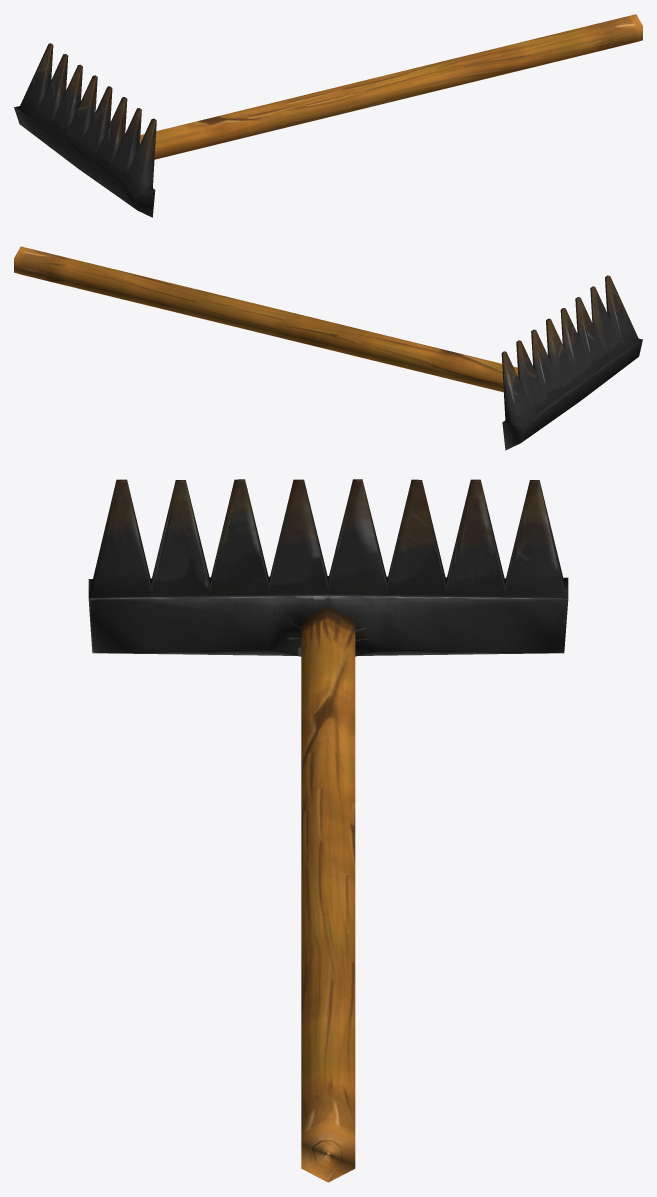
File: rastelo.fbx
The picture shows the model from 3 angles, top to bottom: view 1: azimuth 30°, elevation 25°; view 2: azimuth 150°, elevation 25°; view 3: azimuth 270°, elevation 25°; orthographic projection. The views are drawn at different scales.
Visible parts, largest first — view 1: CA_OPE_Props_Fazenda; view 2: CA_OPE_Props_Fazenda; view 3: CA_OPE_Props_Fazenda.
Boxes of the visible parts, left/top/right/bottom form: CA_OPE_Props_Fazenda: left=14, top=14, right=642, bottom=217; CA_OPE_Props_Fazenda: left=14, top=246, right=642, bottom=450; CA_OPE_Props_Fazenda: left=88, top=479, right=568, bottom=1182.
Size of the model in its own units: 2.5 by 0.3913 by 0.9223.
